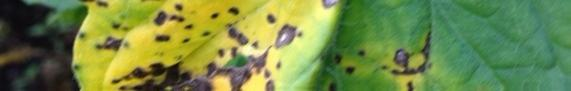Tomato Septoria leaf spot: (59, 0, 571, 91)
